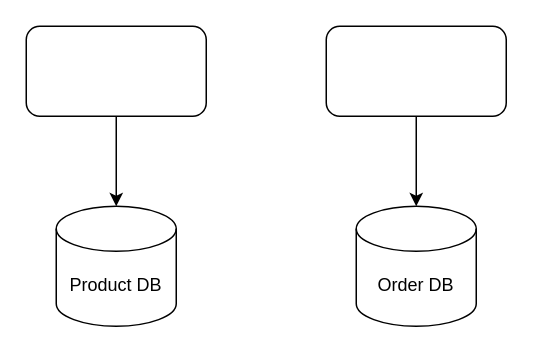
The diagram is 533 pixels wide and 353 high, and some of its shapes have lost their labels. Here are the shapes that lost their labels. From the top down, the box of each, then its label:
(25, 25, 206, 116): Product Service
(325, 25, 506, 116): Order Service
